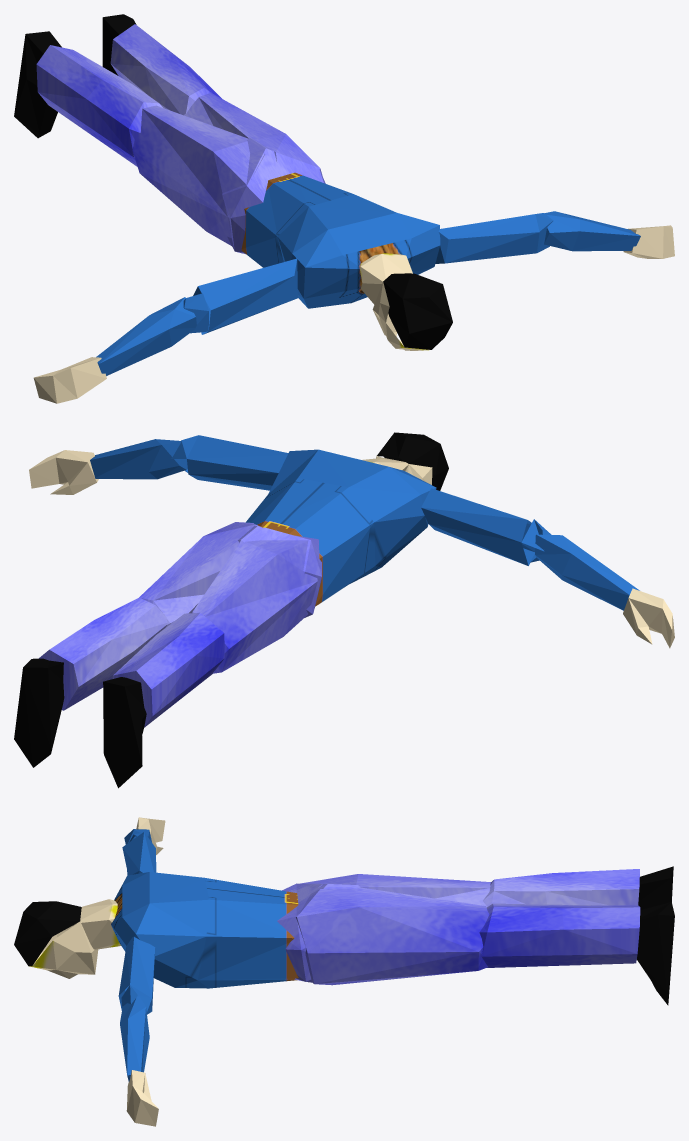
Rendered from Officerlow_wtf.obj.
3 renders of one model, top to bottom at view 1: azimuth 30°, elevation 25°; view 2: azimuth 150°, elevation 25°; view 3: azimuth 270°, elevation 25°, orthographic. The views are drawn at different scales.
Parts seen in each view (by area): view 1: group5, group2, group1, group3, group4, group6; view 2: group5, group2, group1, group6, group3, group4; view 3: group5, group1, group2, group3, group6, group4.
Part boxes in pixels (bbox=[...]): group5: bbox=[36, 24, 325, 254]; group2: bbox=[96, 194, 640, 375]; group1: bbox=[241, 172, 439, 308]; group3: bbox=[33, 225, 674, 403]; group4: bbox=[383, 273, 452, 349]; group6: bbox=[14, 14, 136, 138]; group5: bbox=[39, 522, 321, 727]; group2: bbox=[90, 435, 639, 610]; group1: bbox=[245, 478, 427, 606]; group6: bbox=[14, 658, 146, 788]; group3: bbox=[29, 450, 674, 648]; group4: bbox=[377, 432, 448, 490]; group5: bbox=[277, 869, 640, 985]; group1: bbox=[111, 877, 298, 988]; group2: bbox=[118, 829, 209, 1081]; group3: bbox=[29, 817, 165, 1126]; group6: bbox=[636, 866, 674, 1005]; group4: bbox=[14, 901, 81, 966].
Size of the model in its own units: 660 by 112 by 639.
